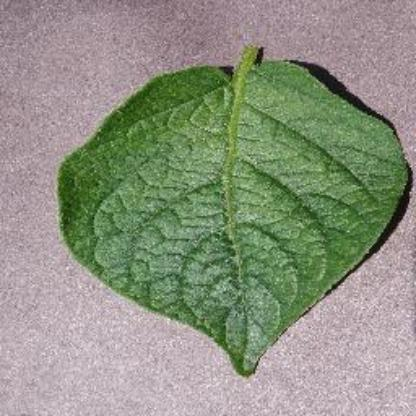Healthy-plant: (52, 41, 414, 378)
